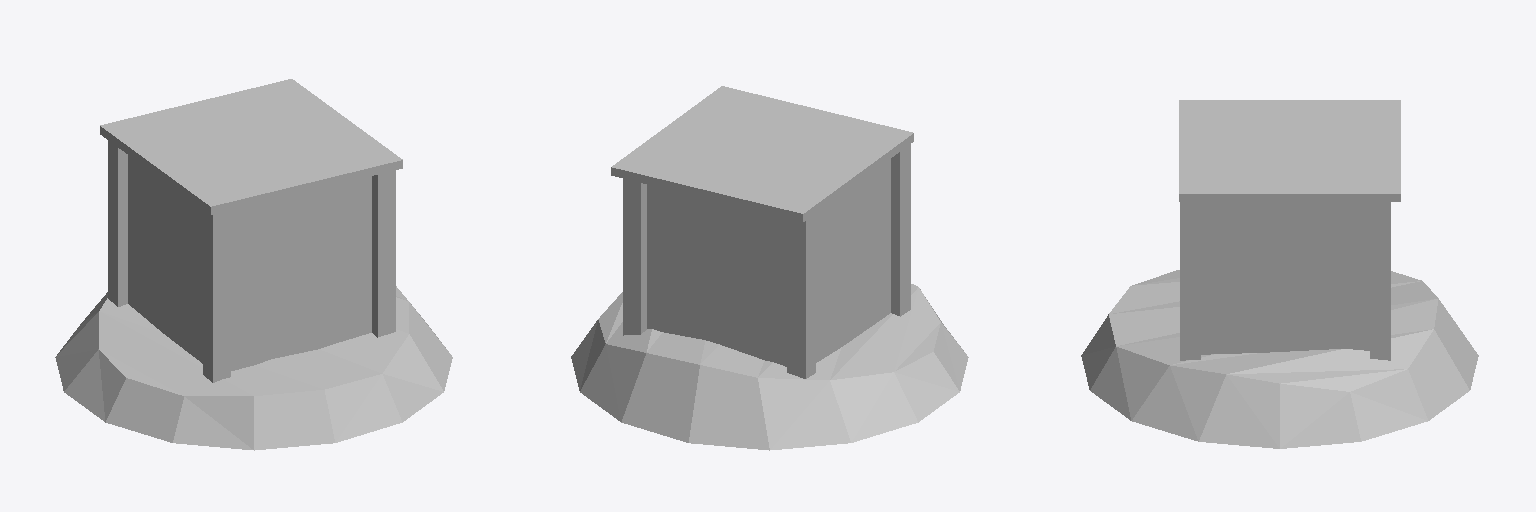
The model's file is scaledCrate.obj.
The picture shows the model from 3 angles: view 1: azimuth 30°, elevation 25°; view 2: azimuth 150°, elevation 25°; view 3: azimuth 270°, elevation 25°; orthographic projection.
Visible parts, largest first — view 1: pCylinder4; view 2: pCylinder4; view 3: pCylinder4.
Part boxes in pixels (x1,y1,x2,y2): pCylinder4: (55,79,452,450); pCylinder4: (571,86,968,450); pCylinder4: (1081,100,1478,448).
Bounding box in the file's own units: 1.88 × 1.15 × 1.89.